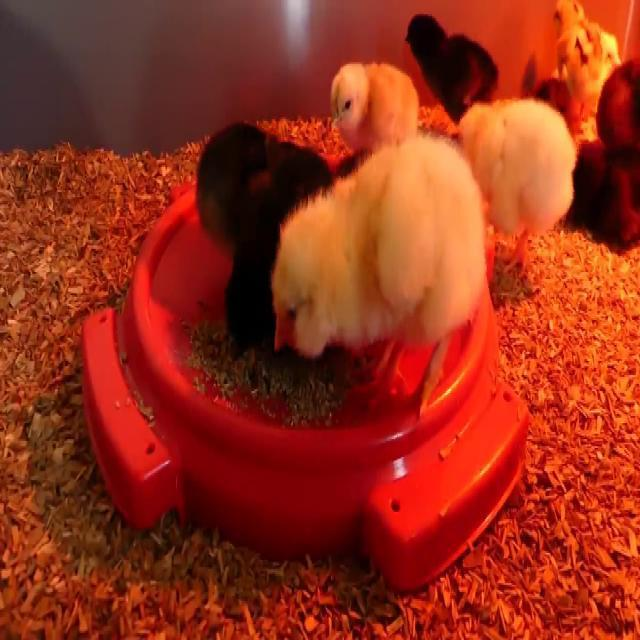poussin: (264, 136, 485, 412), (195, 124, 330, 306), (464, 102, 583, 290), (402, 10, 501, 124), (332, 58, 422, 154)
